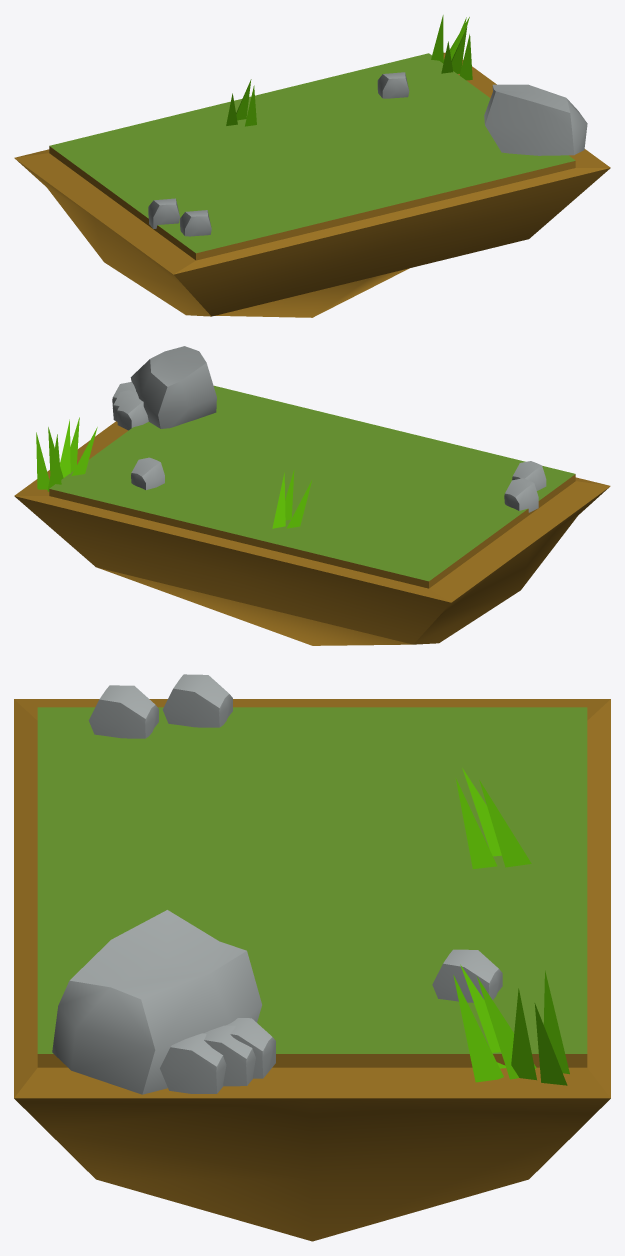
File: PLATFORM3.fbx
3 views of the same model, one above another, from view 1: azimuth 30°, elevation 25°; view 2: azimuth 150°, elevation 25°; view 3: azimuth 270°, elevation 25° (orthographic). The views are drawn at different scales.
Parts seen in each view (by area): view 1: Platform3; view 2: Platform3; view 3: Platform3.
Boxes of the visible parts, x1,y1,x2,y2 form: Platform3: [14, 15, 610, 317]; Platform3: [14, 346, 610, 645]; Platform3: [14, 674, 610, 1241].
Size of the model in its own units: 57.3 by 27.04 by 35.61.
